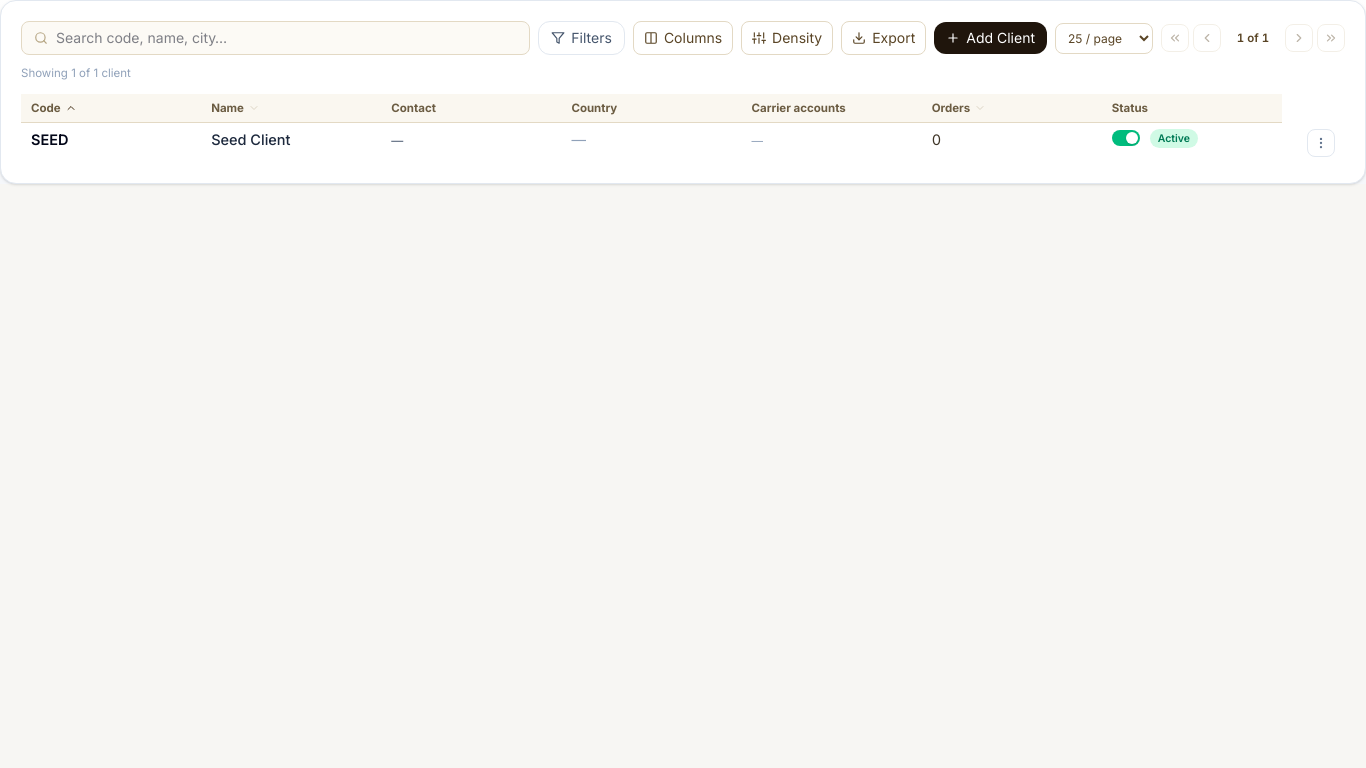
it: ClientsPage · Filters · positive › Filters button toggles the panel open and closed
The width and height of the screenshot is (1366, 768).
Expected: the field with placeholder "Search code, name, city…" is shown, [56,28,517,48]
Click the button "Filters".
click(582, 38)  # box [538,21,625,55]
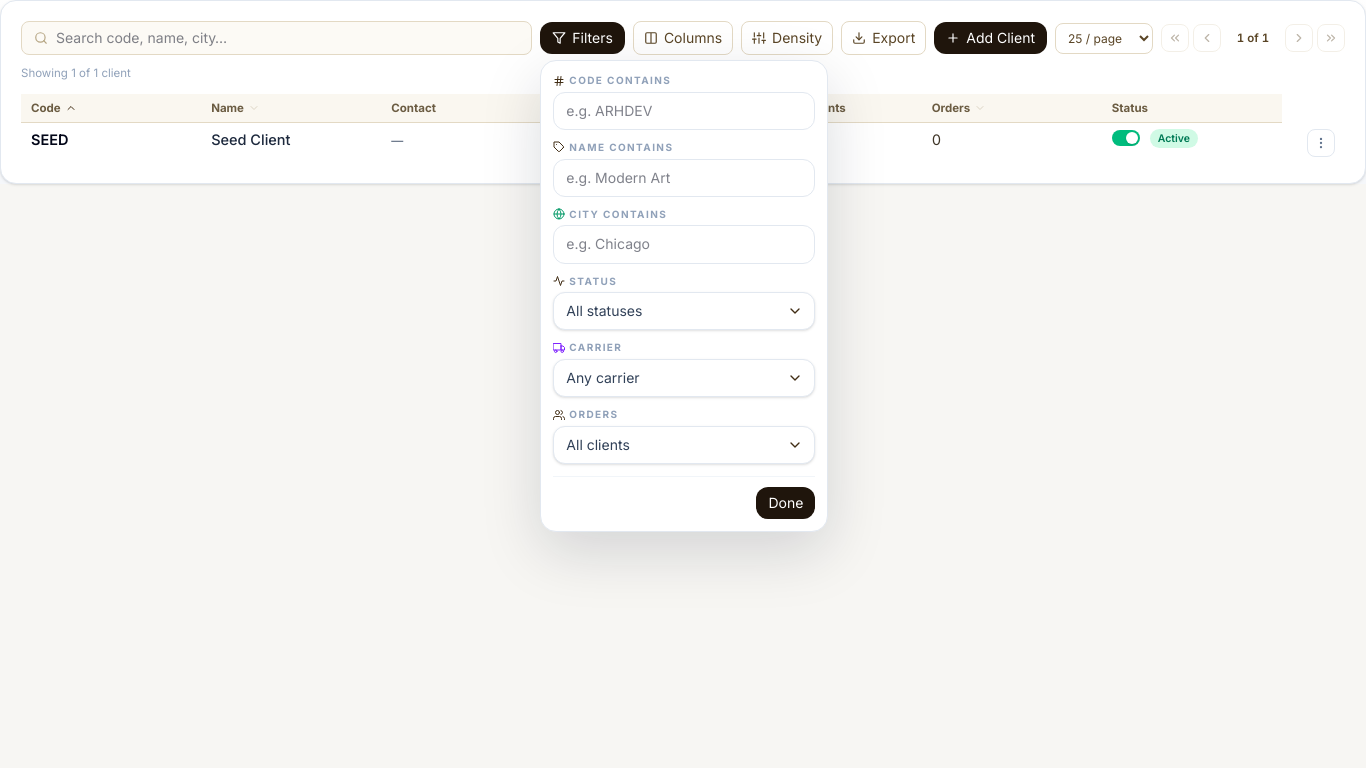
Expected: the button "Filters" is expanded
Expected: the dialog named "Filter clients" is shown, [540,60,828,532]
// Toggle back.
Click the button "Filters".
click(583, 38)  # box [540,22,625,54]
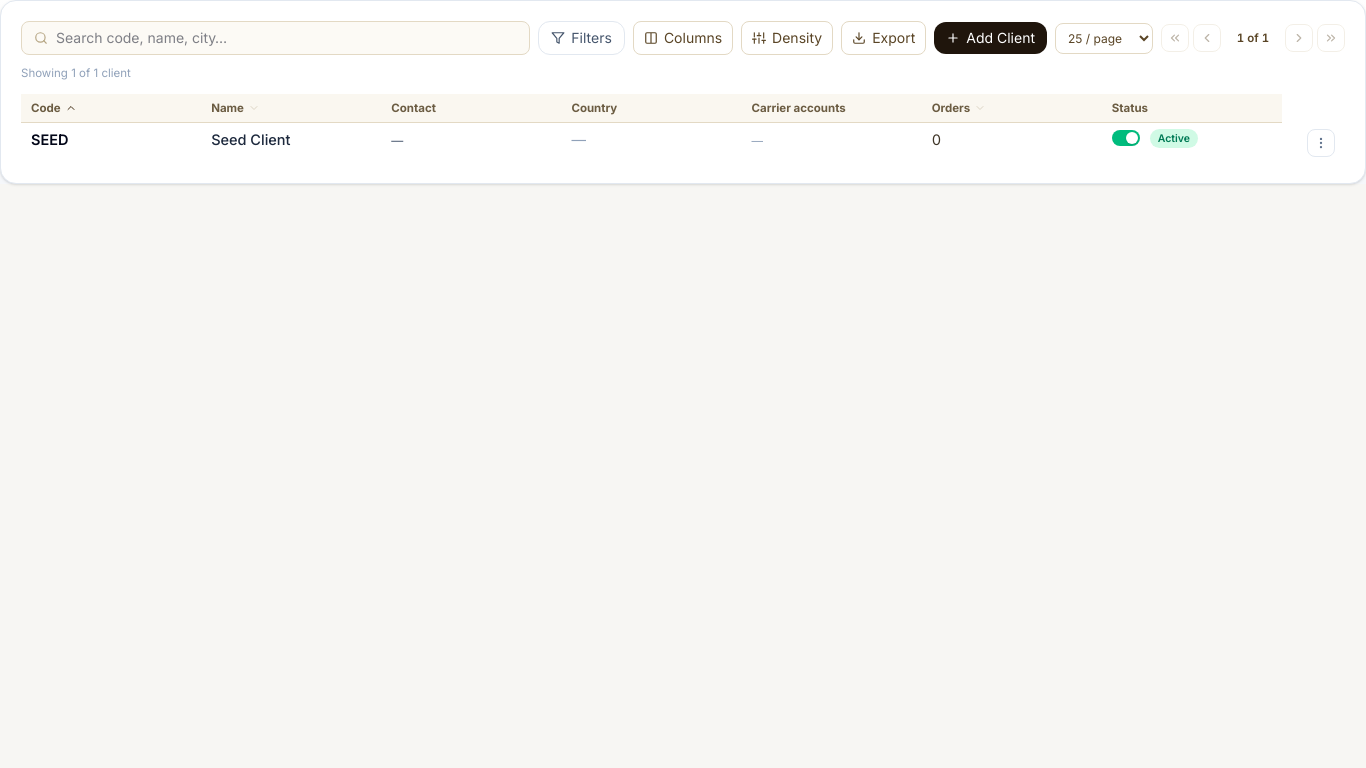
Expected: the button "Filters" is collapsed, [538,21,625,55]
